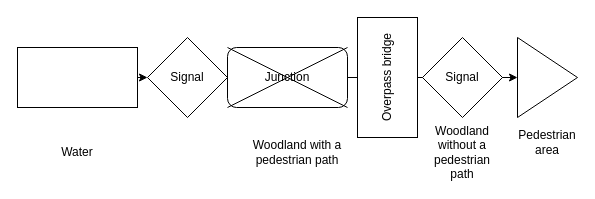
Some shapes in this 595 by 199 pixel diagram are drawn without their labels. Here are the shapes that lost their labels. From the top down, the box of each, then its label:
(16, 46, 138, 108): Bridge
(516, 36, 578, 118): Station
